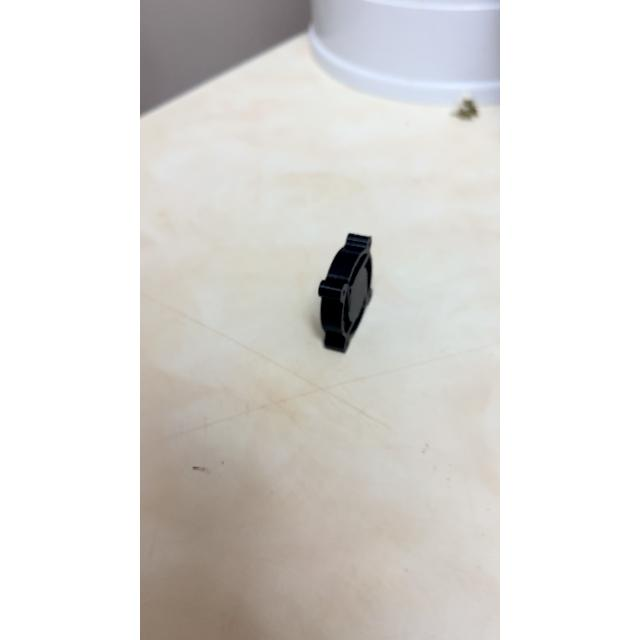Pieza_4: (284, 212, 408, 366)
